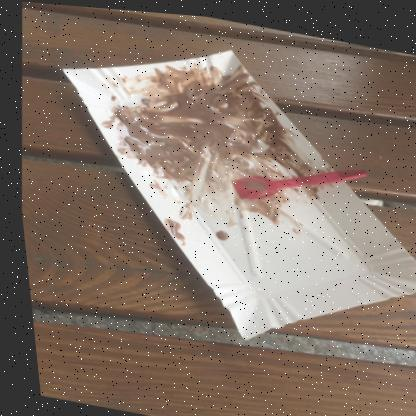Paper: (59, 45, 416, 335)
Plastic: (226, 162, 363, 193)
